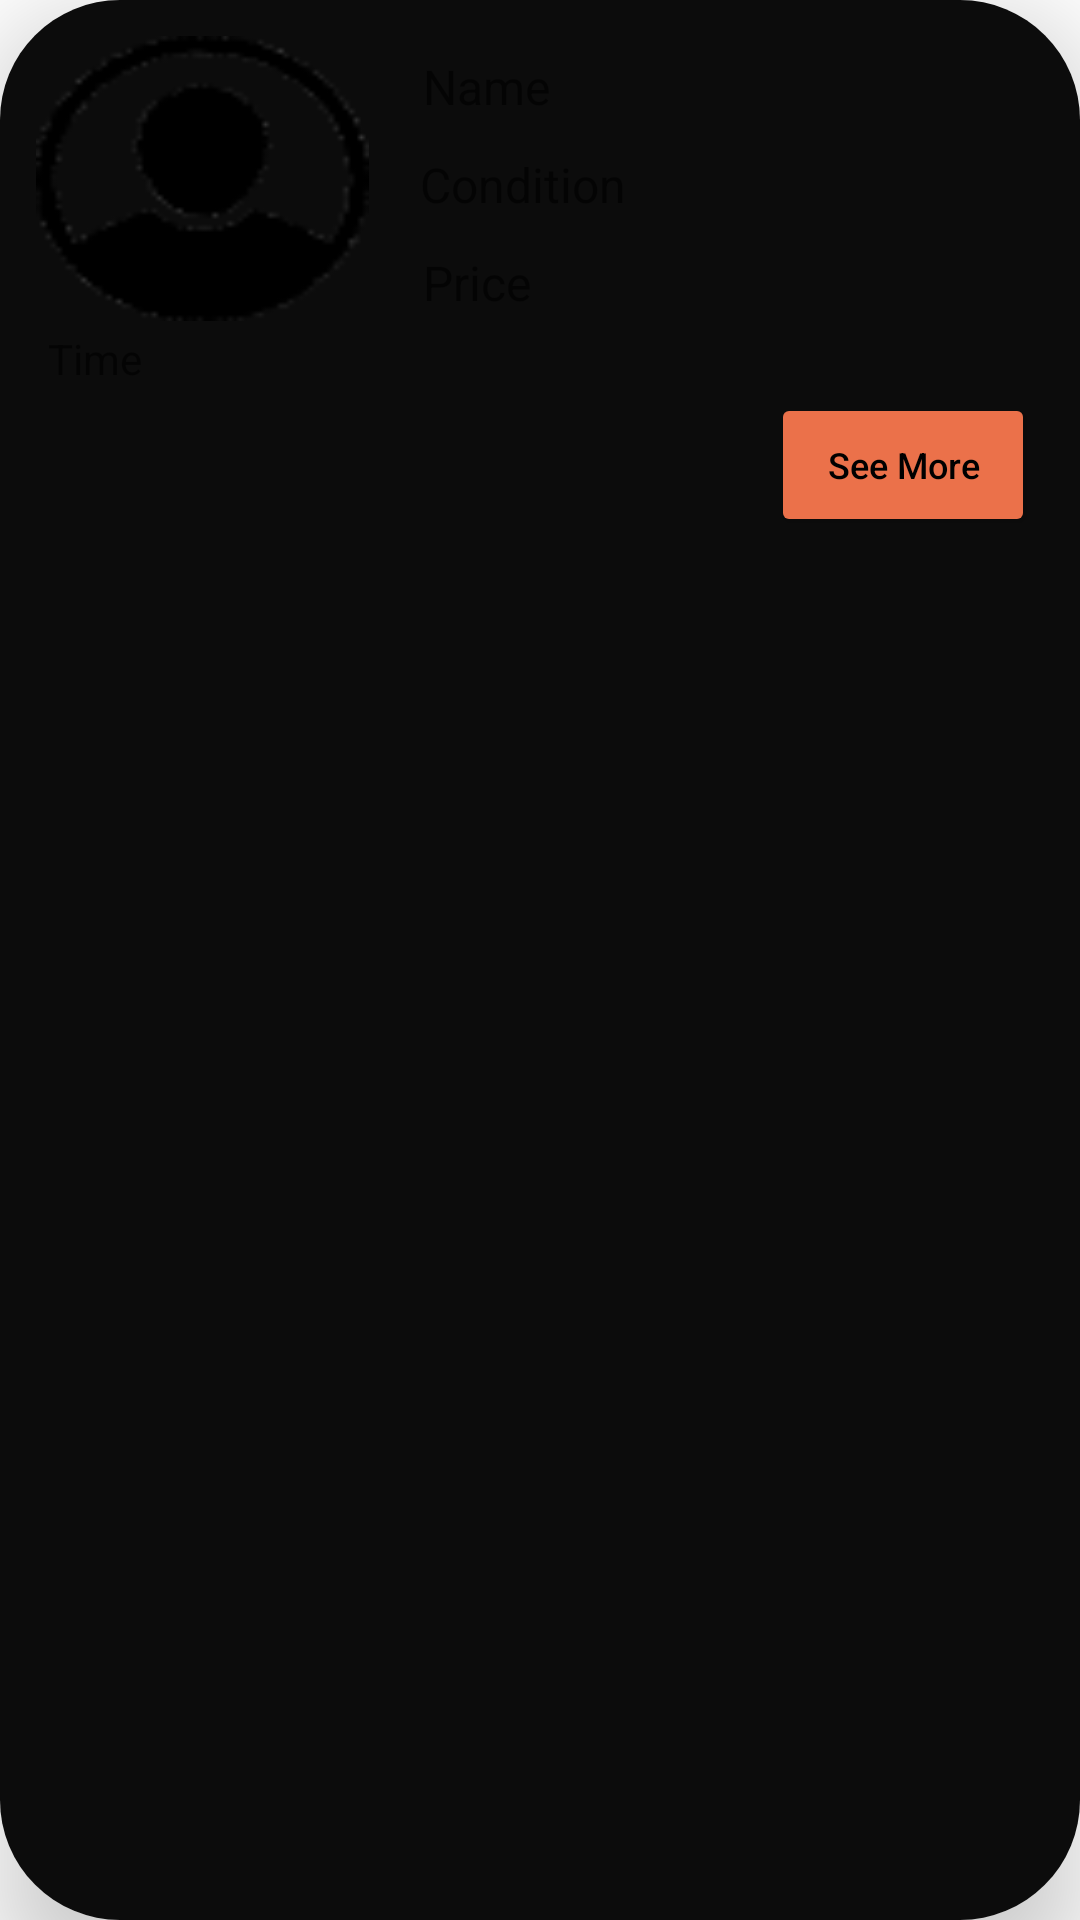

Icons on this 1080*1920 Android screen, each with the point to tap as (x,y):
profile: (203,176)
